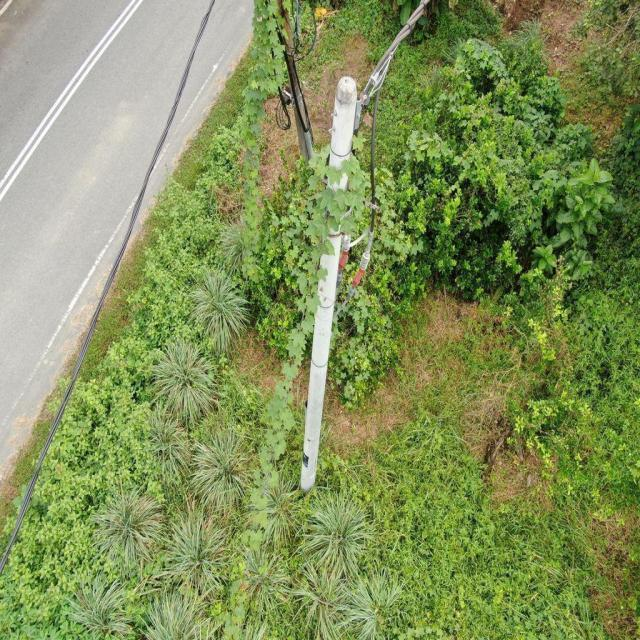critical vegetation: (208, 110, 377, 614)
